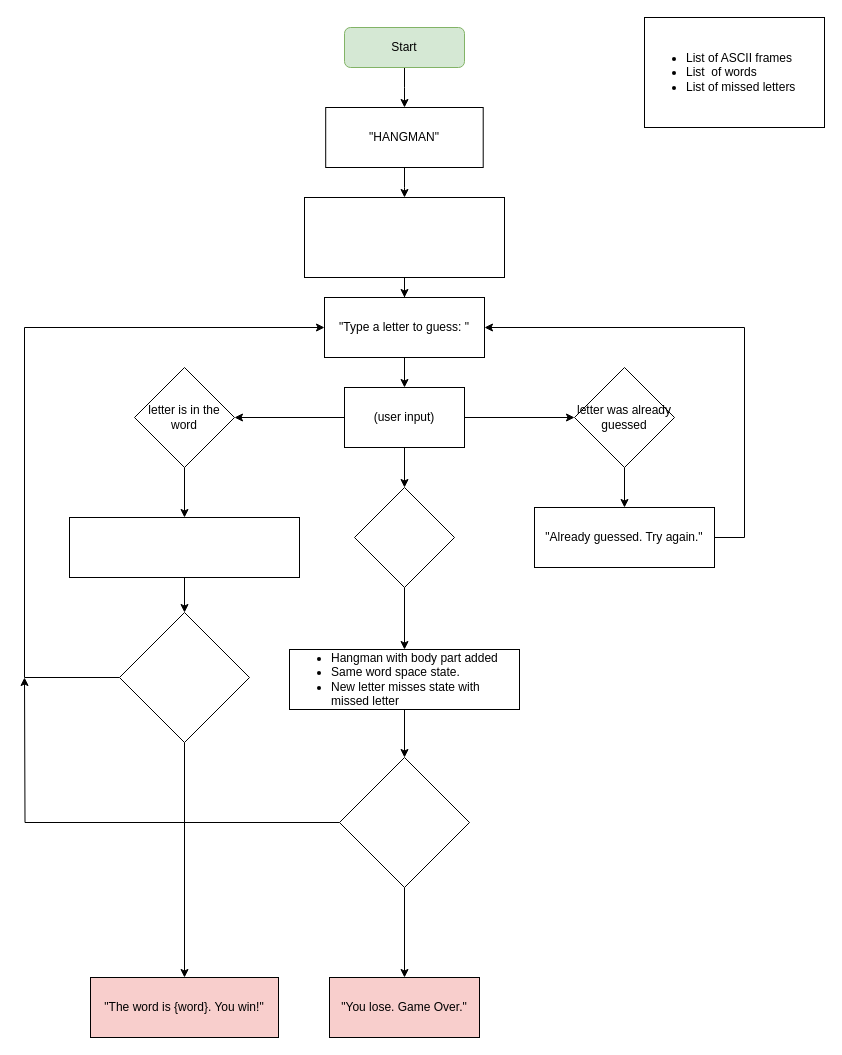
Some shapes in this 842 by 1055 pixel diagram are drawn without their labels. Here are the shapes that lost their labels. From the top down, the centre of each, then its label:
At point (404, 237): "Empty hangman state Empty word space state Empty letter misses state".
At point (184, 547): "Same hangman state New word space with guessed letter Same letter misses state".
At point (404, 537): "letter is NOT in the word".
At point (184, 677): "Word complete?".
At point (404, 822): "Hangman complete?".
